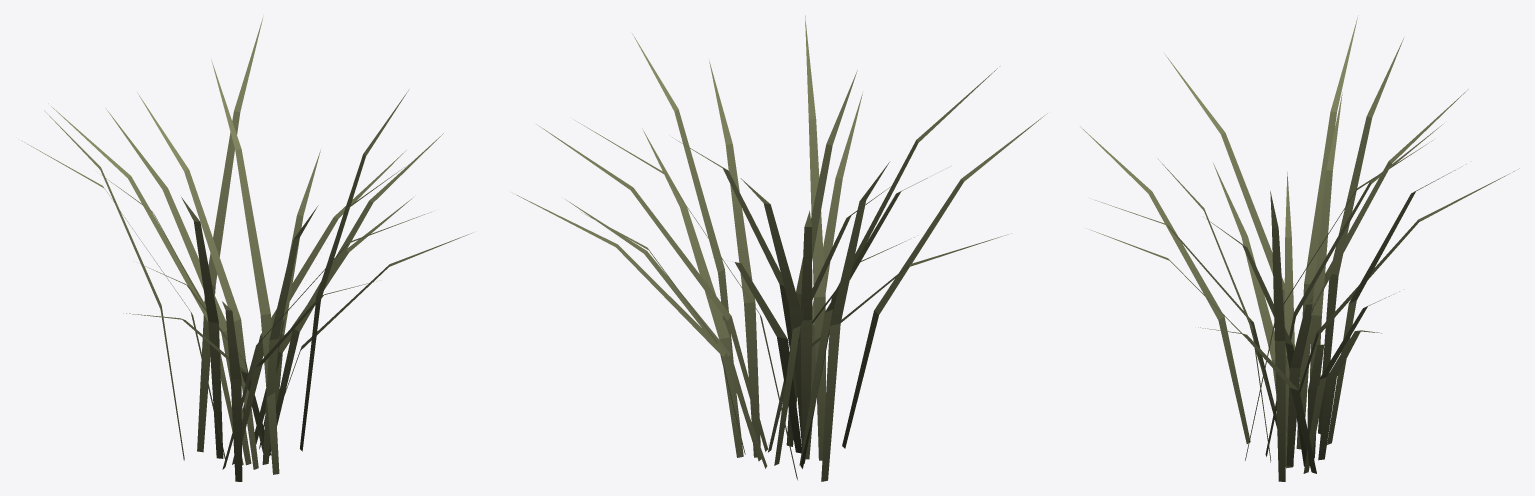
Rendered from coastal-grass.glb.
3 views of the same model, side by side, from view 1: azimuth 30°, elevation 25°; view 2: azimuth 150°, elevation 25°; view 3: azimuth 270°, elevation 25° (orthographic). The views are drawn at different scales.
Parts seen in each view (by area): view 1: coastal-grass-tuft; view 2: coastal-grass-tuft; view 3: coastal-grass-tuft.
Part boxes in pixels (left/top/right/bottom): coastal-grass-tuft: left=21, top=17, right=471, bottom=481; coastal-grass-tuft: left=516, top=15, right=1047, bottom=481; coastal-grass-tuft: left=1080, top=15, right=1519, bottom=481.
Bounding box in the file's own units: 0.7036 × 0.5691 × 0.6495.
